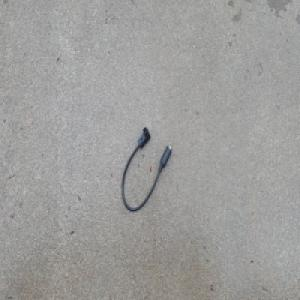Wire: (120, 124, 172, 212)
